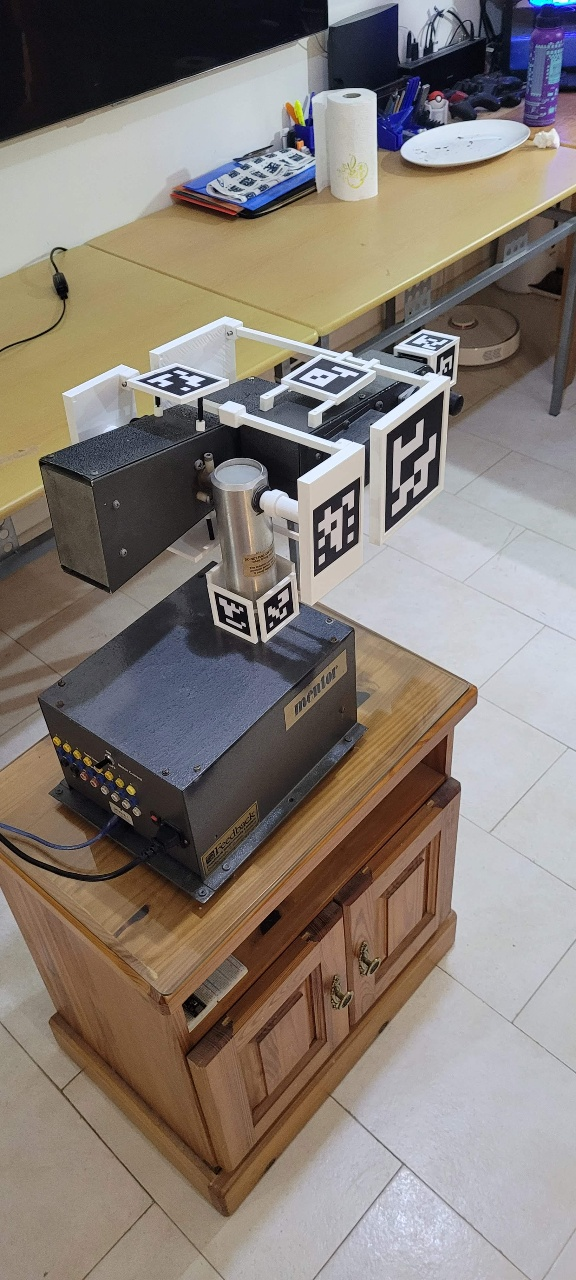Robot: (80, 284, 532, 1194)
